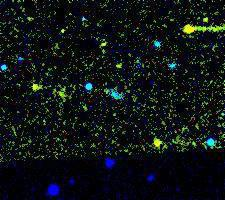star: (144, 128, 174, 158)
